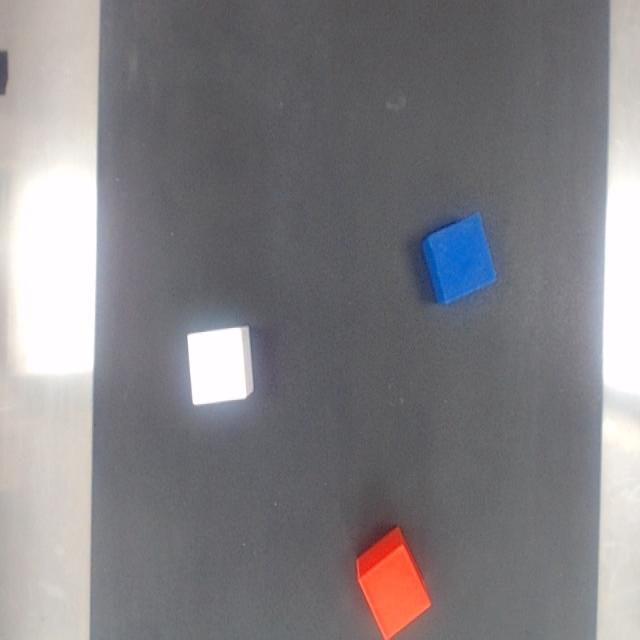Azul: (421, 213, 495, 303)
Blanco: (187, 327, 252, 404)
Rojo: (356, 527, 431, 639)
